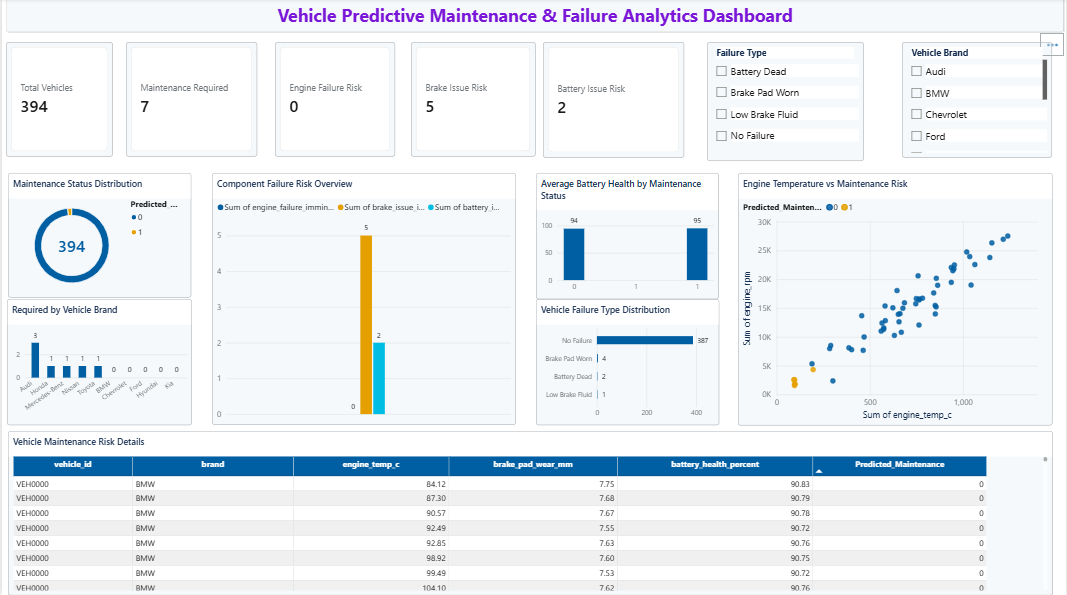

The page's visual inventory and layout, read from the dashboard file:
{"tool":"powerbi","page":{"name":"Page 1","canvas":[1920,1080],"ordinal":0},"visuals":[{"type":"textbox","box":[8,0,1911.1,62.2],"z":0},{"type":"cardVisual","title":"Total Vehicles","fields":{"Data":["CountNonNull(vehicle_maintenance_results.vehicle_id)"]},"box":[8,80.3,192.7,206.8],"z":1000},{"type":"cardVisual","title":"Maintenance Required","fields":{"Data":["Sum(vehicle_maintenance_results.Predicted_Maintenance)"]},"box":[224.8,80.3,236.9,206.8],"z":2000},{"type":"cardVisual","fields":{"Data":["Sum(vehicle_maintenance_results.engine_failure_imminent)"]},"box":[493.8,80.3,216.8,206.8],"z":3000},{"type":"cardVisual","fields":{"Data":["Sum(vehicle_maintenance_results.brake_issue_imminent)"]},"box":[738.7,80.3,224.8,206.8],"z":4000},{"type":"cardVisual","fields":{"Data":["Sum(vehicle_maintenance_results.battery_issue_imminent)"]},"box":[977.6,80.3,254.9,208.8],"z":5000},{"type":"donutChart","title":"Maintenance Status Distribution","fields":{"Category":["vehicle_maintenance_results.Predicted_Maintenance"],"Y":["CountNonNull(vehicle_maintenance_results.vehicle_id)"]},"box":[10,315.2,331.2,224.8],"z":6000},{"type":"clusteredColumnChart","title":"Required by Vehicle Brand","fields":{"Category":["vehicle_maintenance_results.brand"],"Y":["Sum(vehicle_maintenance_results.Predicted_Maintenance)"]},"box":[9,543.6,334,228],"z":7000},{"type":"clusteredBarChart","title":"Vehicle Failure Type Distribution","fields":{"Category":["vehicle_maintenance_results.failure_type"],"Y":["CountNonNull(vehicle_maintenance_results.vehicle_id)"]},"box":[964.4,543.6,330.5,227.6],"z":8000},{"type":"clusteredColumnChart","title":"Component Failure Risk Overview","fields":{"Y":["Sum(vehicle_maintenance_results.engine_failure_imminent)","Sum(vehicle_maintenance_results.brake_issue_imminent)","Sum(vehicle_maintenance_results.battery_issue_imminent)"]},"box":[379.3,316.1,549,455.1],"z":9000},{"type":"scatterChart","title":"Engine Temperature vs Maintenance Risk","fields":{"Category":["vehicle_maintenance_results.vehicle_id"],"Series":["vehicle_maintenance_results.Predicted_Maintenance"],"X":["Sum(vehicle_maintenance_results.engine_temp_c)"],"Y":["Sum(vehicle_maintenance_results.engine_rpm)"]},"box":[1328.9,315.2,568.1,455.7],"z":10000},{"type":"clusteredColumnChart","title":"Average Battery Health by Maintenance Status","fields":{"Category":["vehicle_maintenance_results.Predicted_Maintenance"],"Y":["Avg(vehicle_maintenance_results.battery_health_percent)"]},"box":[964.4,316.1,329.7,227.5],"z":11000},{"type":"tableEx","title":"Vehicle Maintenance Risk Details","fields":{"Values":["vehicle_maintenance_results.vehicle_id","vehicle_maintenance_results.brand","vehicle_maintenance_results.engine_temp_c","vehicle_maintenance_results.brake_pad_wear_mm","vehicle_maintenance_results.battery_health_percent","vehicle_maintenance_results.Predicted_Maintenance"]},"box":[10,782.9,1887,297.1],"z":11001},{"type":"slicer","fields":{"Values":["vehicle_maintenance_results.brand"]},"box":[1626,80.3,271,208.8],"z":11002},{"type":"slicer","fields":{"Values":["vehicle_maintenance_results.failure_type"]},"box":[1272.7,80.3,283,214.8],"z":11003}]}

Visuals, with their boxes in screenshot pixels (x1, y1, x2, y2), scaled from the page's 1920x1080 canvas onto the 1067x595 screenshot:
textbox: BBox(4, 0, 1066, 34)
"Total Vehicles" cardVisual: BBox(4, 44, 112, 158)
"Maintenance Required" cardVisual: BBox(125, 44, 257, 158)
cardVisual - Sum(vehicle_maintenance_results.engine_failure_imminent): BBox(274, 44, 395, 158)
cardVisual - Sum(vehicle_maintenance_results.brake_issue_imminent): BBox(411, 44, 535, 158)
cardVisual - Sum(vehicle_maintenance_results.battery_issue_imminent): BBox(543, 44, 685, 159)
"Maintenance Status Distribution" donutChart: BBox(6, 174, 190, 298)
"Required by Vehicle Brand" clusteredColumnChart: BBox(5, 299, 191, 425)
"Vehicle Failure Type Distribution" clusteredBarChart: BBox(536, 299, 720, 425)
"Component Failure Risk Overview" clusteredColumnChart: BBox(211, 174, 516, 425)
"Engine Temperature vs Maintenance Risk" scatterChart: BBox(739, 174, 1054, 425)
"Average Battery Health by Maintenance Status" clusteredColumnChart: BBox(536, 174, 719, 299)
"Vehicle Maintenance Risk Details" tableEx: BBox(6, 431, 1054, 594)
slicer - vehicle_maintenance_results.brand: BBox(904, 44, 1054, 159)
slicer - vehicle_maintenance_results.failure_type: BBox(707, 44, 865, 163)
